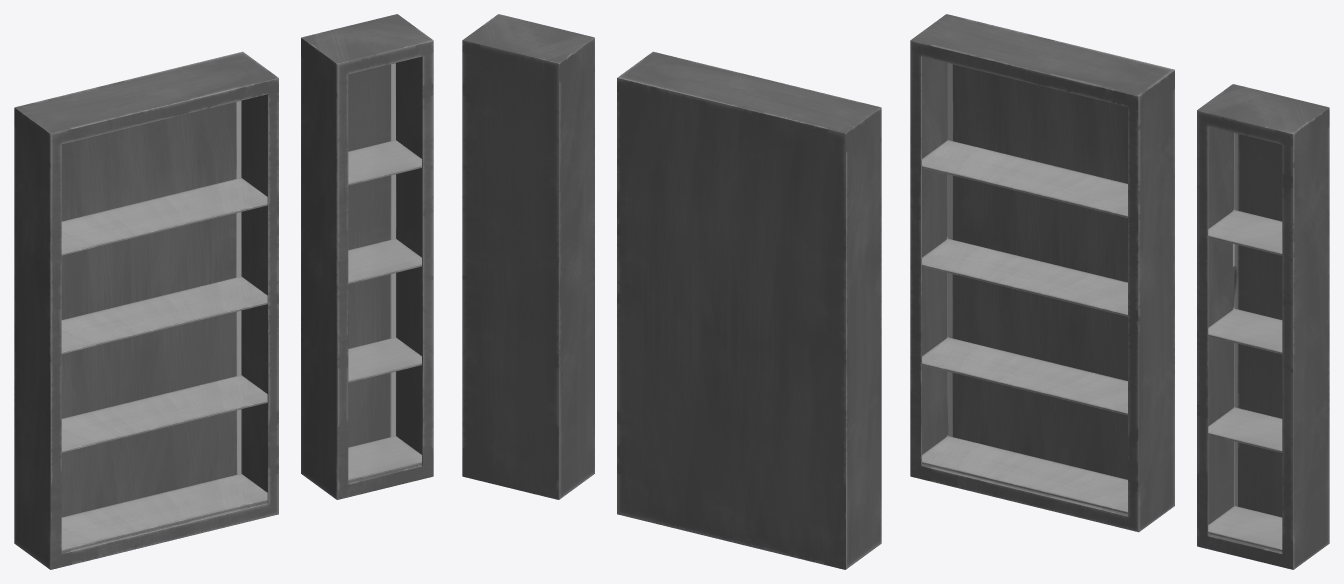
3 renders of one model, left to right at view 1: azimuth 30°, elevation 25°; view 2: azimuth 150°, elevation 25°; view 3: azimuth 330°, elevation 25°, orthographic.
Visible parts, largest first — view 1: FrameBig_Low, FrameSmall_Low, ShelfBig3_Low, ShelfBig4_Low, ShelfBig2_Low, ShelfBig1_Low, ShelfSmall4_Low, ShelfSmall1_Low, ShelfSmall2_Low, ShelfSmall3_Low; view 2: FrameBig_Low, FrameSmall_Low; view 3: FrameBig_Low, FrameSmall_Low, ShelfBig1_Low, ShelfBig2_Low, ShelfBig3_Low, ShelfBig4_Low, ShelfSmall4_Low, ShelfSmall1_Low, ShelfSmall2_Low, ShelfSmall3_Low.
Boxes of the visible parts, x1,y1,x2,y2 form: FrameBig_Low: [14, 51, 278, 569]; FrameSmall_Low: [301, 14, 433, 499]; ShelfBig3_Low: [61, 276, 267, 354]; ShelfBig4_Low: [61, 177, 267, 255]; ShelfBig2_Low: [61, 375, 267, 452]; ShelfBig1_Low: [61, 473, 267, 551]; ShelfSmall4_Low: [348, 140, 421, 185]; ShelfSmall1_Low: [348, 436, 421, 481]; ShelfSmall2_Low: [348, 337, 421, 382]; ShelfSmall3_Low: [348, 238, 421, 284]; FrameBig_Low: [617, 51, 881, 569]; FrameSmall_Low: [462, 14, 594, 499]; FrameBig_Low: [910, 14, 1174, 532]; FrameSmall_Low: [1197, 84, 1329, 569]; ShelfBig1_Low: [922, 436, 1127, 513]; ShelfBig2_Low: [922, 337, 1127, 415]; ShelfBig3_Low: [922, 238, 1127, 316]; ShelfBig4_Low: [922, 140, 1127, 217]; ShelfSmall4_Low: [1208, 210, 1282, 255]; ShelfSmall1_Low: [1208, 506, 1282, 551]; ShelfSmall2_Low: [1208, 407, 1282, 452]; ShelfSmall3_Low: [1208, 308, 1282, 354].
Size of the model in its own units: 2.03 by 2.21 by 0.332.
1 material, 1 textured.
